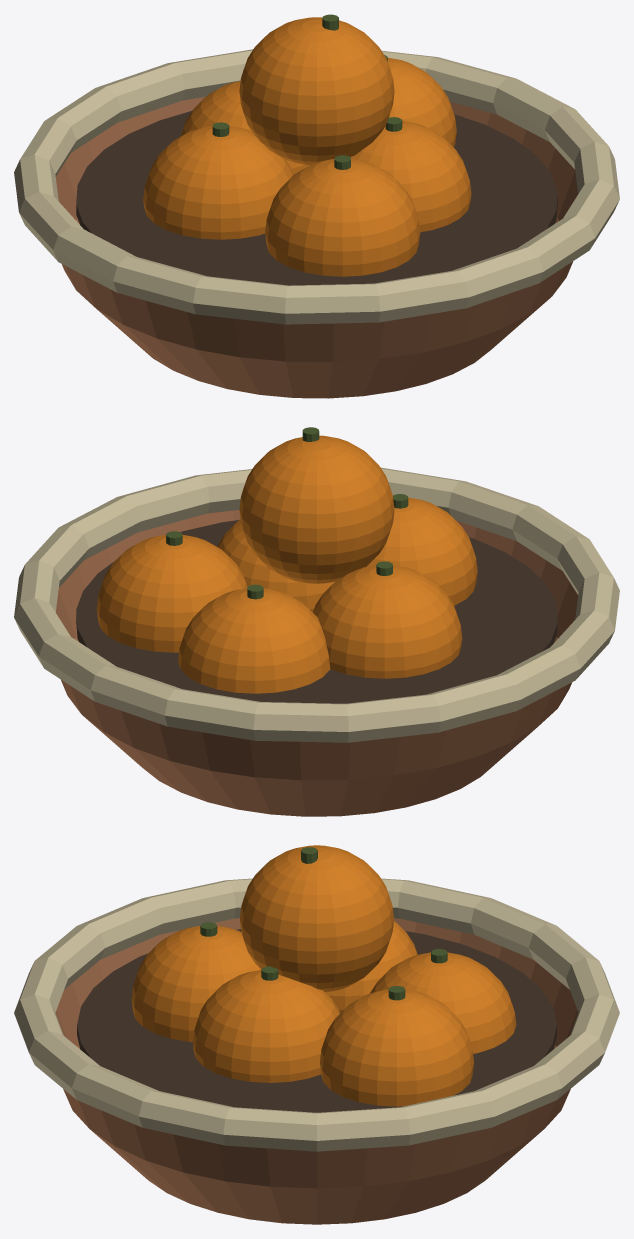
The model's file is serving-bowl.glb.
3 renders of one model, top to bottom at view 1: azimuth 30°, elevation 25°; view 2: azimuth 150°, elevation 25°; view 3: azimuth 270°, elevation 25°, orthographic.
Parts seen in each view (by area): view 1: ServingBowlRim, ServingBowl, ServingBowlInterior, Orange_Top, Orange_3, Orange_0, Orange_1, Orange_2, Orange_4; view 2: ServingBowlRim, ServingBowl, ServingBowlInterior, Orange_Top, Orange_0, Orange_4, Orange_2, Orange_3, Orange_1; view 3: ServingBowlRim, ServingBowl, ServingBowlInterior, Orange_Top, Orange_2, Orange_1, Orange_3, Orange_4, Orange_0.
Boxes of the visible parts, x1,y1,x2,y2 form: ServingBowlRim: (14,49,619,324); ServingBowl: (55,97,578,398); ServingBowlInterior: (76,111,557,285); Orange_Top: (239,17,394,165); Orange_3: (265,159,420,276); Orange_0: (143,126,293,239); Orange_1: (350,120,471,232); Orange_2: (387,57,456,147); Orange_4: (180,81,309,174); ServingBowlRim: (14,467,619,742); ServingBowl: (56,510,578,816); ServingBowlInterior: (76,520,557,703); Orange_Top: (239,435,394,583); Orange_0: (313,565,462,678); Orange_4: (178,588,330,693); Orange_2: (96,535,247,652); Orange_3: (367,497,477,605); Orange_1: (217,519,334,612); ServingBowlRim: (14,878,619,1151); ServingBowl: (55,918,578,1224); ServingBowlInterior: (77,929,556,1112); Orange_Top: (240,845,393,992); Orange_2: (320,989,473,1106); Orange_1: (193,970,339,1082); Orange_3: (131,926,261,1041); Orange_4: (370,952,516,1053); Orange_0: (325,921,417,1012).
Bounding box in the file's own units: 0.644 × 0.376 × 0.644.
